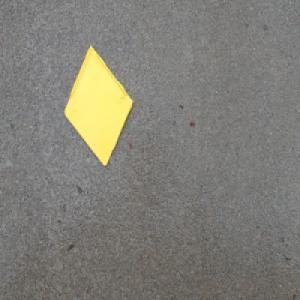PlasticPart: (63, 44, 133, 168)
